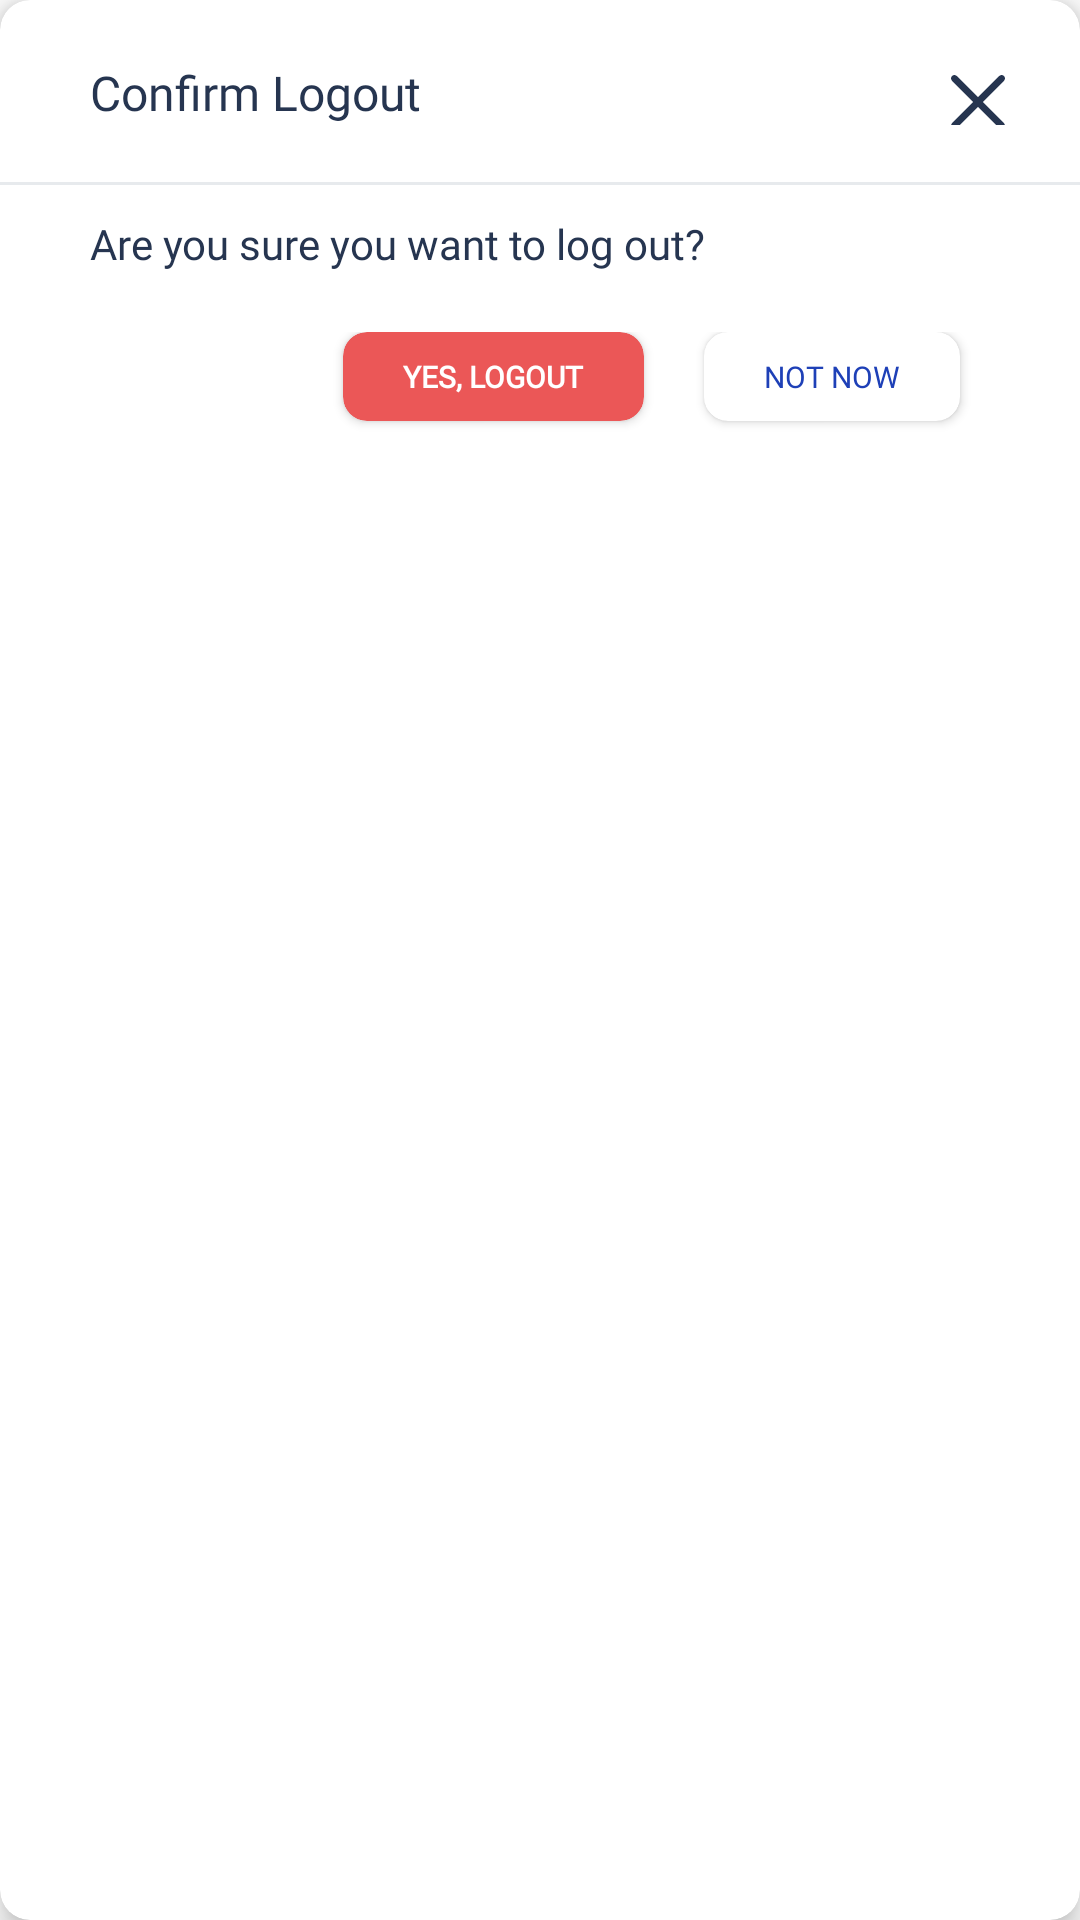

Named icons in this screenshot (1080 × 1920) and their centers, (x,y):
cross filter: (978,100)
